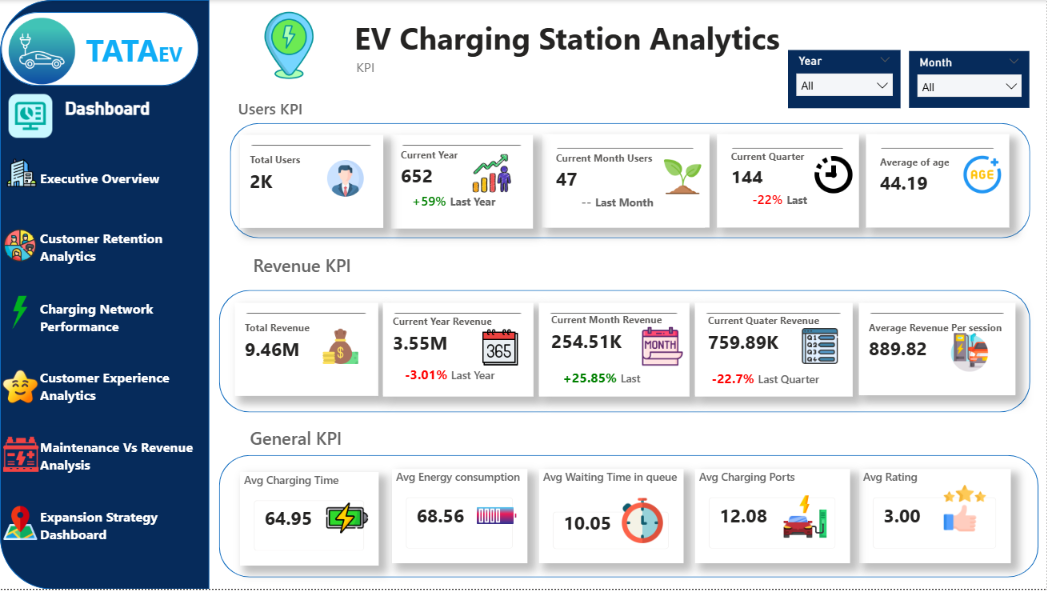

Layout of this report page (visuals, bound fields, positions):
{"tool":"powerbi","page":{"name":"KPI","canvas":[1280,720],"ordinal":6},"visuals":[{"type":"shape","box":[268,354.9,992.1,149.7],"z":0},{"type":"shape","box":[281.8,150,978.6,140.9],"z":1000},{"type":"group","id":"g1","title":"Group 4","box":[274.3,13.1,784.9,91.2],"z":2000},{"type":"textbox","box":[274.3,15.1,784.9,89.2],"z":2000,"group":"g1"},{"type":"image","box":[293,13.1,122.1,83.7],"z":3000,"group":"g1"},{"type":"cardVisual","fields":{"Data":["customers(1).Current Month Users"]},"box":[662.3,164.2,204.5,114.1],"z":3000},{"type":"cardVisual","title":"Total Users","fields":{"Data":["customers(1).Total Users"]},"box":[293.1,165,174.9,113.7],"z":3000,"group":"g3"},{"type":"cardVisual","title":"Total Users","fields":{"Data":["customers(1).Current Year"]},"box":[478.4,165.1,173.9,114.1],"z":3000,"group":"g2"},{"type":"cardVisual","title":"Total Users","fields":{"Data":["charging_sessions.Total Amount"]},"box":[287.9,370.6,174.9,113.7],"z":3000,"group":"g4"},{"type":"shape","box":[0,0,256,720.7],"z":3500,"group":"g5"},{"type":"shape","box":[0.9,14.8,241.7,90.2],"z":3750,"group":"g5"},{"type":"slicer","fields":{"Values":["Date Table.Date.Variation.Date Hierarchy.Year"]},"box":[964.2,61.2,137.7,71],"z":4000},{"type":"pageNavigator","box":[49.4,182.5,205.8,495.4],"z":4000,"group":"g5"},{"type":"image","box":[575.3,188.6,54.3,47.3],"z":4001,"group":"g2"},{"type":"image","box":[386,196,71.8,45],"z":4001,"group":"g3"},{"type":"image","box":[380.8,401.6,71.8,45],"z":4001,"group":"g4"},{"type":"group","id":"g2","title":"Group 1","box":[478.4,165.1,173.9,114.1],"z":5000},{"type":"image","box":[0,115.3,74.1,53.5],"z":6000,"group":"g5"},{"type":"group","id":"g3","title":"Group 1","box":[293.1,165,175.9,113.2],"z":6000},{"type":"slicer","fields":{"Values":["Date Table.Date.Variation.Date Hierarchy.Month"]},"box":[1111.7,62.6,147.5,69.6],"z":7000},{"type":"textbox","box":[74.1,115.3,129,48],"z":8000,"group":"g5"},{"type":"cardVisual","title":"Total Users","fields":{"Data":["customers(1).Current Quarter"]},"box":[876.5,164.2,173.9,114.1],"z":8000},{"type":"image","box":[809.7,193.4,50.1,45.9],"z":9000},{"type":"image","box":[987.8,190.6,62.6,45.9],"z":10000},{"type":"textbox","box":[285.7,115.2,139.8,35.6],"z":11000},{"type":"cardVisual","title":"Total Users","fields":{"Data":["Avg(customers(1).age)"]},"box":[1058.8,164.2,175.3,114.1],"z":12000},{"type":"image","box":[4.1,193.5,45.3,35.7],"z":12000,"group":"g5"},{"type":"image","box":[1177,183.7,47.3,59.8],"z":13000},{"type":"image","box":[0,278.6,49.4,42.5],"z":14000,"group":"g5"},{"type":"group","id":"g4","title":"Group 1","box":[287.9,370.6,175.3,114],"z":14000},{"type":"textbox","box":[99.8,30.5,129.4,59.6],"z":14500,"group":"g5"},{"type":"cardVisual","title":"Total Users","fields":{"Data":["charging_sessions.current Year Revenue"]},"box":[469,370.6,183.9,114],"z":15000},{"type":"image","box":[2.7,20.3,97,83.4],"z":15500,"group":"g5"},{"type":"image","box":[0,360.9,49.4,42.5],"z":16000,"group":"g5"},{"type":"cardVisual","title":"Total Users","fields":{"Data":["charging_sessions.current Month Revenue"]},"box":[658.5,370.6,183.9,114],"z":16000},{"type":"cardVisual","title":"Total Users","fields":{"Data":["charging_sessions.Current Quater Month"]},"box":[849.5,370.6,192.4,114],"z":17000},{"type":"cardVisual","title":"Total Users","fields":{"Data":["charging_sessions.Average Revenue for a session"]},"box":[1050.5,370.6,191,112.6],"z":18000},{"type":"textbox","box":[304.5,304.5,150,40.9],"z":19000},{"type":"image","box":[0,532.9,51.5,44.5],"z":19000,"group":"g5"},{"type":"image","box":[1156,407.7,59.9,47],"z":20000},{"type":"image","box":[0,619.1,50.1,41.7],"z":20000,"group":"g5"},{"type":"image","box":[580.1,400.5,64.1,47],"z":21000},{"type":"image","box":[0,450.8,50.1,43.1],"z":21000,"group":"g5"},{"type":"image","box":[772.6,399.1,74.1,49.9],"z":22000},{"type":"shape","box":[268,555.9,1002,149.7],"z":23000},{"type":"image","box":[970.7,400.5,62.7,44.2],"z":24000},{"type":"cardVisual","title":"Avg Charging Time ","fields":{"Data":["Avg(charging_sessions.duration_minutes)"]},"box":[293.6,577.3,169.6,114],"z":25000},{"type":"cardVisual","title":"Avg Energy consumption","fields":{"Data":["Avg(charging_sessions.energy_kwh)"]},"box":[478.9,573,165.3,115.5],"z":26000},{"type":"cardVisual","title":"Avg Waiting Time in queue  ","fields":{"Data":["Avg(charging_sessions.wait_time_minutes)"]},"box":[658.5,573,176.7,115.5],"z":27000},{"type":"cardVisual","title":"Avg Rating","fields":{"Data":["Avg(feedback.rating)"]},"box":[1050.5,573,185.3,115.5],"z":28000},{"type":"cardVisual","title":"Avg Charging Ports","fields":{"Data":["Avg(stations.total_ports)"]},"box":[849.5,573,189.6,115.5],"z":29000},{"type":"textbox","box":[300.8,516,149.7,39.9],"z":30000},{"type":"image","box":[392,607.2,64.1,51.3],"z":31000},{"type":"image","box":[580.1,602.9,55.6,55.6],"z":32000},{"type":"image","box":[746.9,608.6,77,55.6],"z":33000},{"type":"image","box":[950.7,604.4,68.4,55.6],"z":34000},{"type":"image","box":[1146,593,68.4,57],"z":35000},{"type":"group","id":"g5","title":"Group 3","box":[0,0,256,720.7],"z":36000}]}

Visuals, with their boxes in screenshot pixels (x1, y1, x2, y2), scaled from the page's 1280x720 canvas onto the 1047x591 screenshot:
shape: rect(219, 291, 1031, 414)
shape: rect(231, 123, 1031, 239)
"Group 4" group: rect(224, 11, 866, 86)
textbox: rect(224, 12, 866, 86)
image: rect(240, 11, 340, 79)
cardVisual - customers(1).Current Month Users: rect(542, 135, 709, 228)
"Total Users" cardVisual: rect(240, 135, 383, 229)
"Total Users" cardVisual: rect(391, 136, 534, 229)
"Total Users" cardVisual: rect(235, 304, 379, 398)
shape: rect(0, 0, 209, 590)
shape: rect(1, 12, 198, 86)
slicer - Date Table.Date.Variation.Date Hierarchy.Year: rect(789, 50, 901, 109)
pageNavigator: rect(40, 150, 209, 556)
image: rect(471, 155, 515, 194)
image: rect(316, 161, 374, 198)
image: rect(311, 330, 370, 367)
"Group 1" group: rect(391, 136, 534, 229)
image: rect(0, 95, 61, 139)
"Group 1" group: rect(240, 135, 384, 228)
slicer - Date Table.Date.Variation.Date Hierarchy.Month: rect(909, 51, 1030, 109)
textbox: rect(61, 95, 166, 134)
"Total Users" cardVisual: rect(717, 135, 859, 228)
image: rect(662, 159, 703, 196)
image: rect(808, 156, 859, 194)
textbox: rect(234, 95, 348, 124)
"Total Users" cardVisual: rect(866, 135, 1009, 228)
image: rect(3, 159, 40, 188)
image: rect(963, 151, 1001, 200)
image: rect(0, 229, 40, 264)
"Group 1" group: rect(235, 304, 379, 398)
textbox: rect(82, 25, 187, 74)
"Total Users" cardVisual: rect(384, 304, 534, 398)
image: rect(2, 17, 82, 85)
image: rect(0, 296, 40, 331)
"Total Users" cardVisual: rect(539, 304, 689, 398)
"Total Users" cardVisual: rect(695, 304, 852, 398)
"Total Users" cardVisual: rect(859, 304, 1016, 397)
textbox: rect(249, 250, 372, 284)
image: rect(0, 437, 42, 474)
image: rect(946, 335, 995, 373)
image: rect(0, 508, 41, 542)
image: rect(475, 329, 527, 367)
image: rect(0, 370, 41, 405)
image: rect(632, 328, 693, 369)
shape: rect(219, 456, 1039, 579)
image: rect(794, 329, 845, 365)
"Avg Charging Time " cardVisual: rect(240, 474, 379, 567)
"Avg Energy consumption" cardVisual: rect(392, 470, 527, 565)
"Avg Waiting Time in queue  " cardVisual: rect(539, 470, 683, 565)
"Avg Rating" cardVisual: rect(859, 470, 1011, 565)
"Avg Charging Ports" cardVisual: rect(695, 470, 850, 565)
textbox: rect(246, 424, 368, 456)
image: rect(321, 498, 373, 541)
image: rect(475, 495, 520, 541)
image: rect(611, 500, 674, 545)
image: rect(778, 496, 834, 542)
image: rect(937, 487, 993, 534)
"Group 3" group: rect(0, 0, 209, 590)
